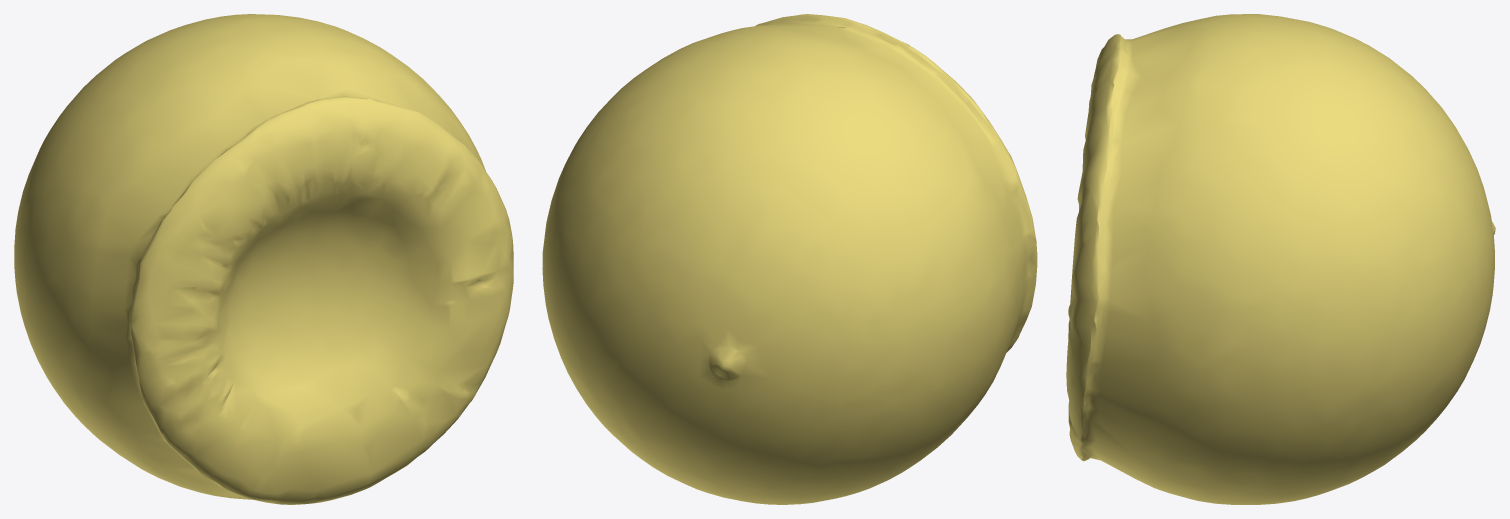
Rendered from vitreous-body-r.glb.
3 renders of one model, left to right at view 1: azimuth 30°, elevation 25°; view 2: azimuth 150°, elevation 25°; view 3: azimuth 270°, elevation 25°, orthographic. The views are drawn at different scales.
Parts seen in each view (by area): view 1: Vitreous body.r; view 2: Vitreous body.r; view 3: Vitreous body.r.
Part boxes in pixels (x1,y1,x2,y2): Vitreous body.r: (14, 14, 513, 504); Vitreous body.r: (542, 14, 1037, 504); Vitreous body.r: (1066, 14, 1495, 504).
Size of the model in its own units: 0.0204 by 0.0203 by 0.0177.
